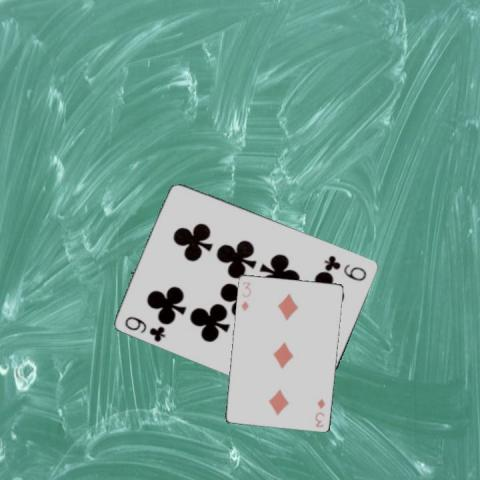3d: (238, 279, 252, 312), (313, 395, 326, 428)
9c: (321, 252, 369, 282), (122, 313, 167, 343)
